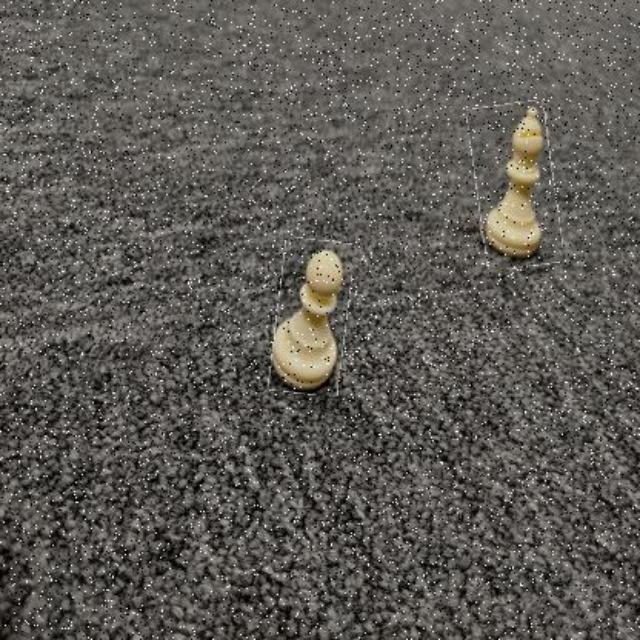white-bishop: (471, 103, 558, 269)
white-pawn: (273, 240, 351, 396)
